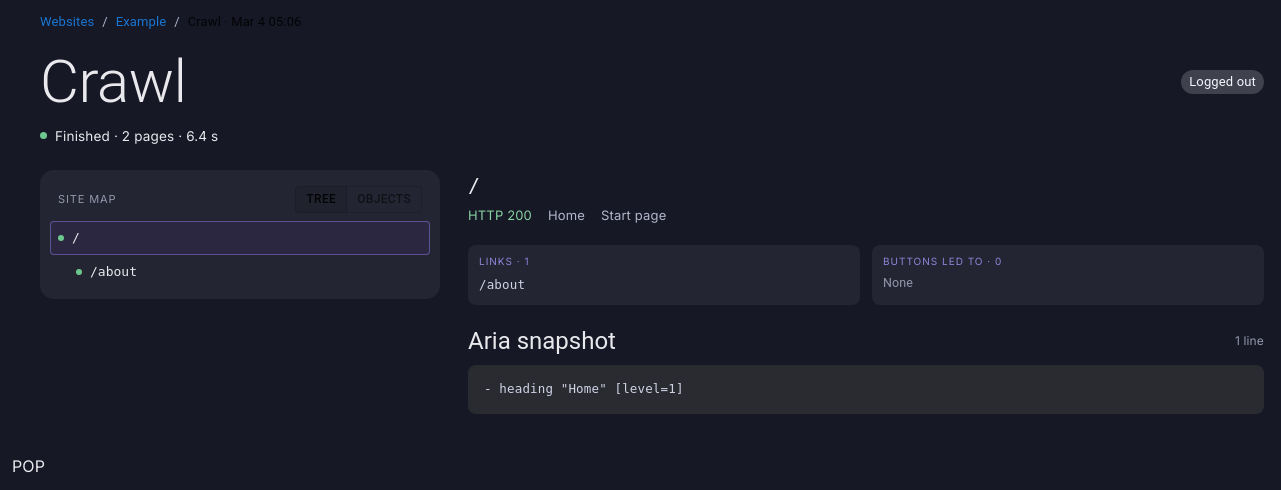
Test case: CrawlRunPage › follows a link listed on the shown page to that page
This screenshot has width=1281, height=490.
Click the button "/about" below "Links · 1": point(502, 286) top-left (479, 274), bottom-right (525, 297)
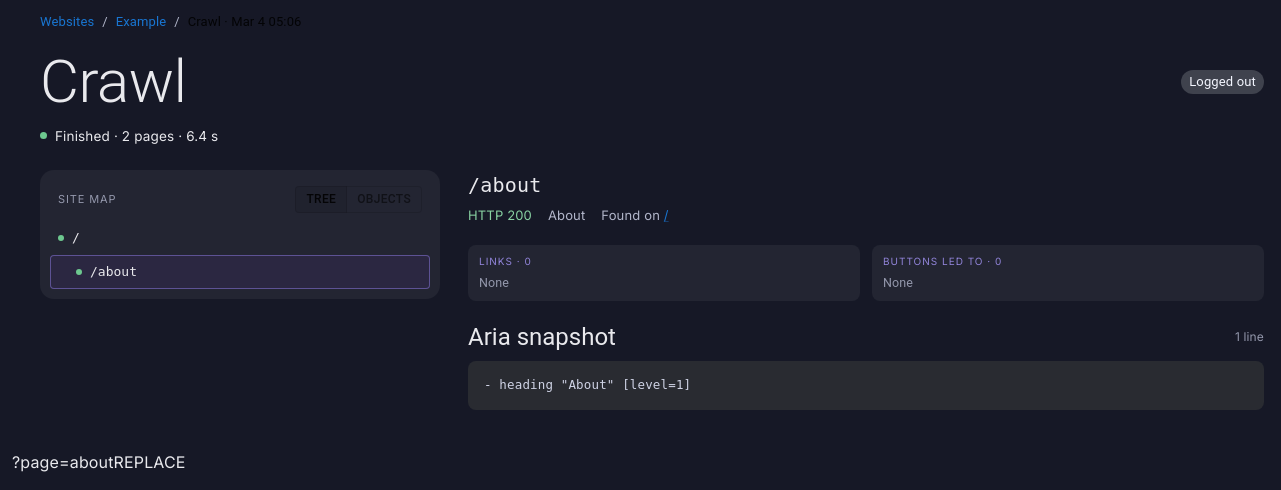
Check: the text named "Aria snapshot" reads "- heading \"About\" [level=1]", box top-left (484, 377), bottom-right (691, 392)
